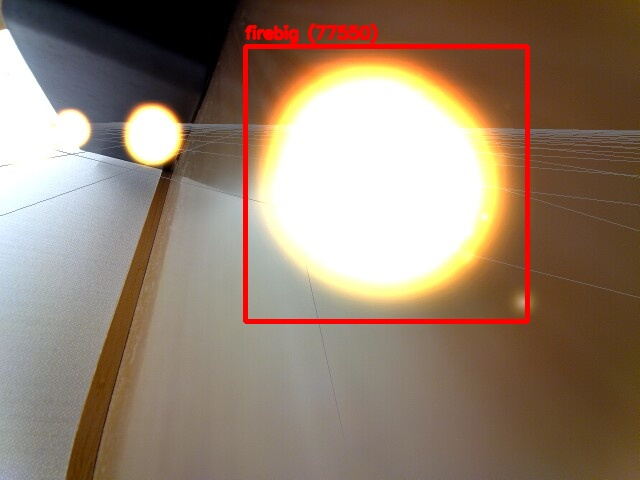firebig: (245, 46, 527, 321)
